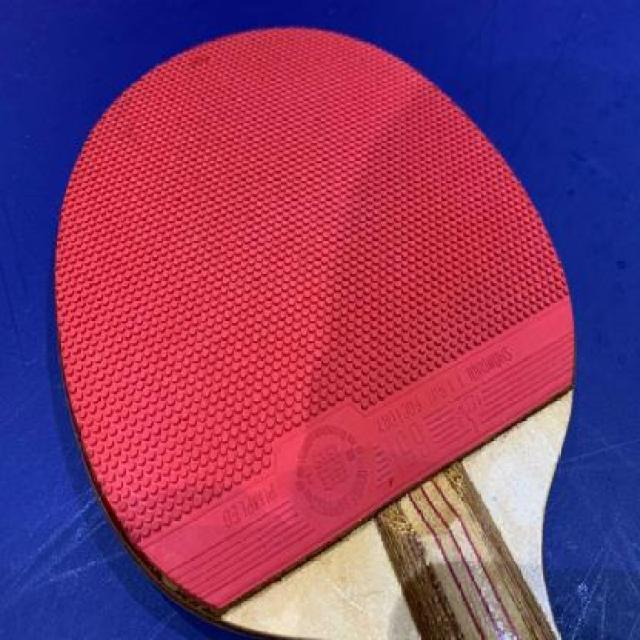table_tennis_racket: (50, 13, 582, 639)
